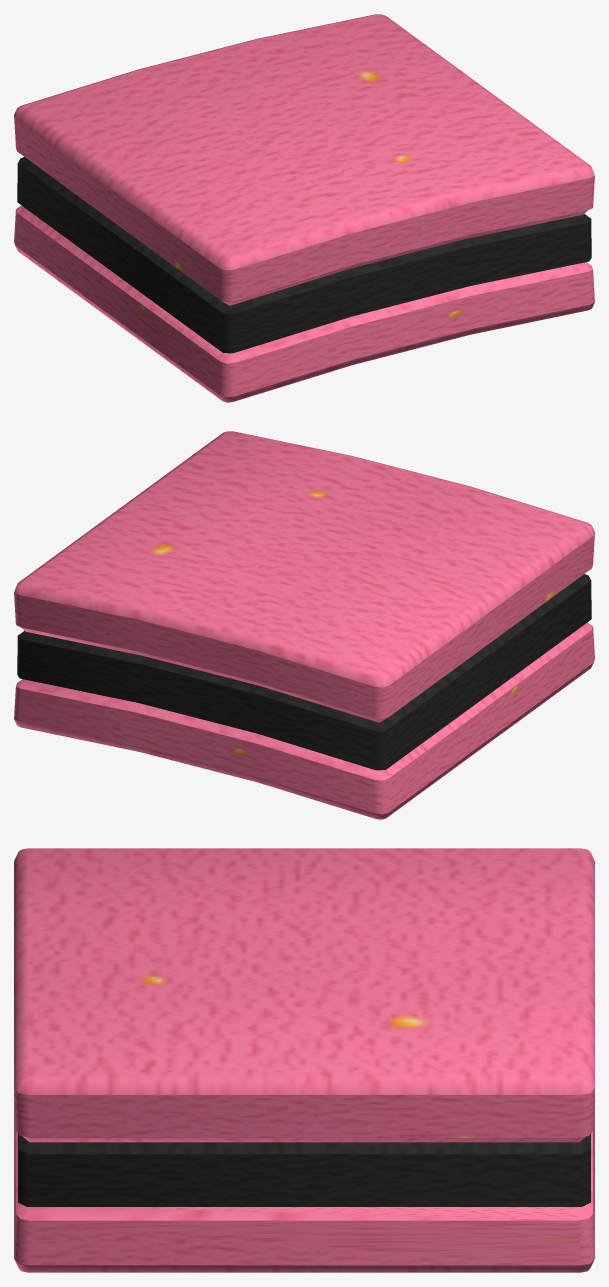
File: LayersSquare3_UV_FBX.fbx
3 renders of one model, top to bottom at view 1: azimuth 30°, elevation 25°; view 2: azimuth 150°, elevation 25°; view 3: azimuth 270°, elevation 25°, orthographic. The views are drawn at different scales.
Parts seen in each view (by area): view 1: 3layer; view 2: 3layer; view 3: 3layer.
Boxes of the visible parts, x1=… form: 3layer: x1=14, y1=14, x2=594, y2=402; 3layer: x1=14, y1=431, x2=594, y2=819; 3layer: x1=14, y1=848, x2=594, y2=1272.
Bounding box in the file's own units: 120 × 47.71 × 120.
